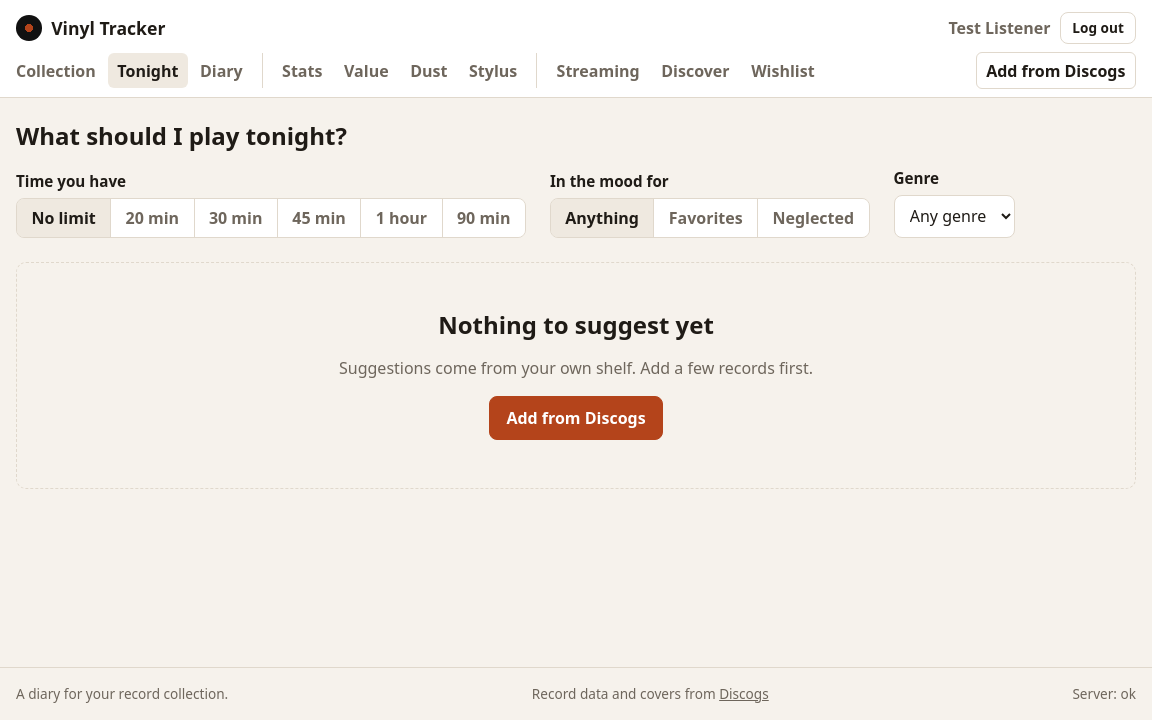
Test: TonightPage › explains an empty shelf, and a question nothing fits
Expected: the heading "Nothing to suggest yet" is shown, [438,308,714,341]
Click the button "20 min": (153, 218) [111,199,195,237]
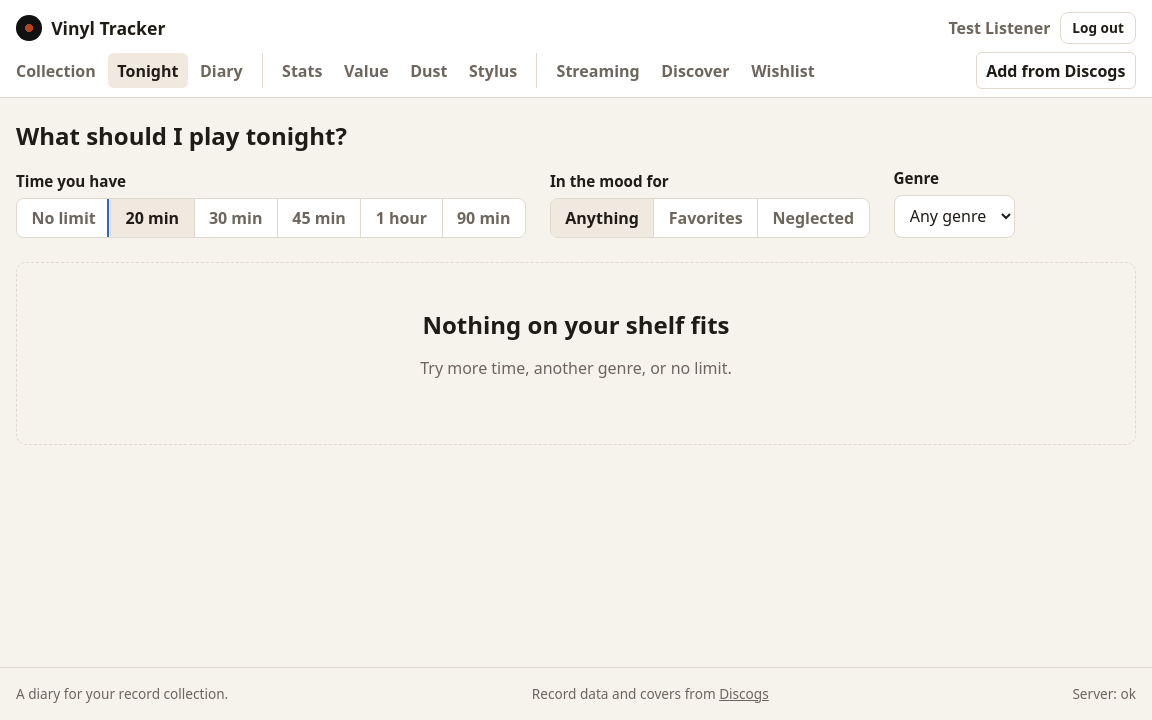
Expected: the heading "Nothing on your shelf fits" is shown, [422,308,730,341]
